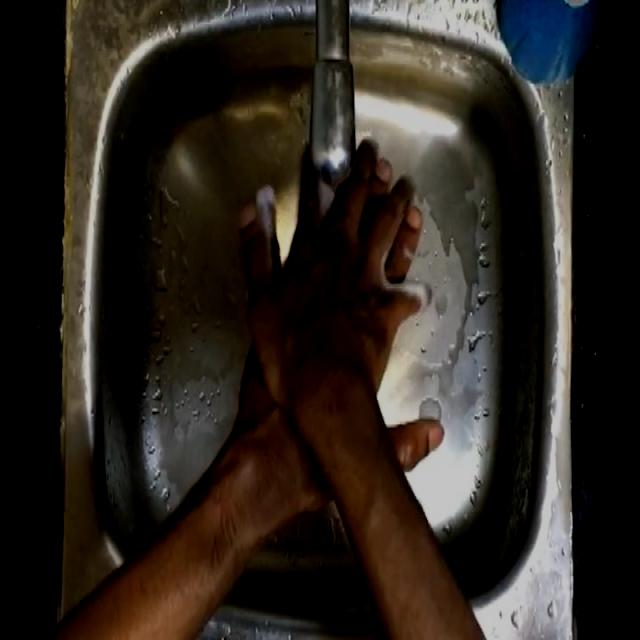step_2: (233, 126, 445, 426)
